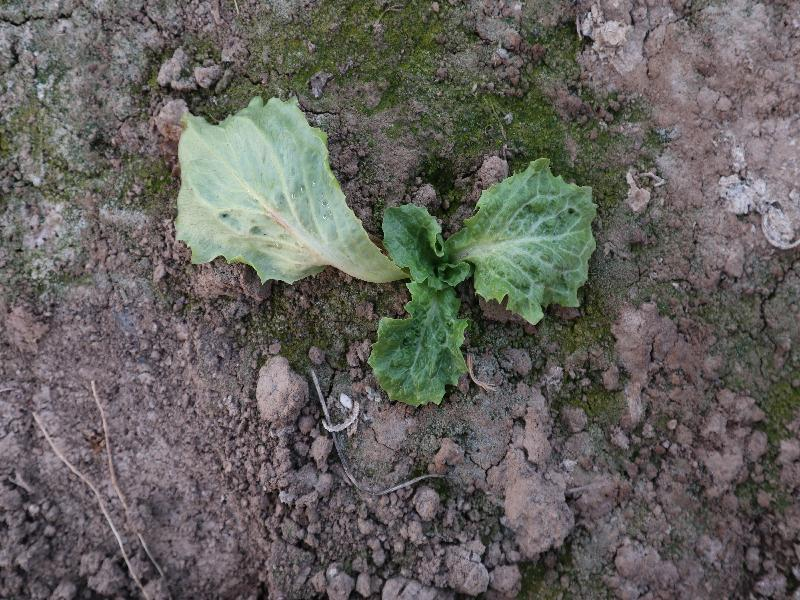lettuce: (172, 95, 599, 405)
